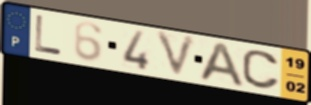4: (120, 28, 151, 72)
6: (72, 20, 104, 64)
A: (196, 41, 247, 90)
C: (240, 49, 282, 92)
L: (33, 14, 64, 58)
V: (154, 30, 200, 82)
